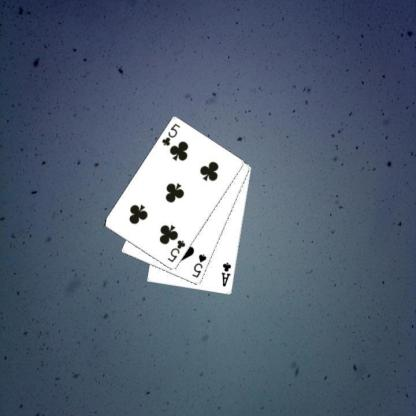5C: (164, 238, 186, 264), (160, 122, 182, 148)
5S: (190, 252, 208, 279)
AC: (219, 260, 232, 288)
